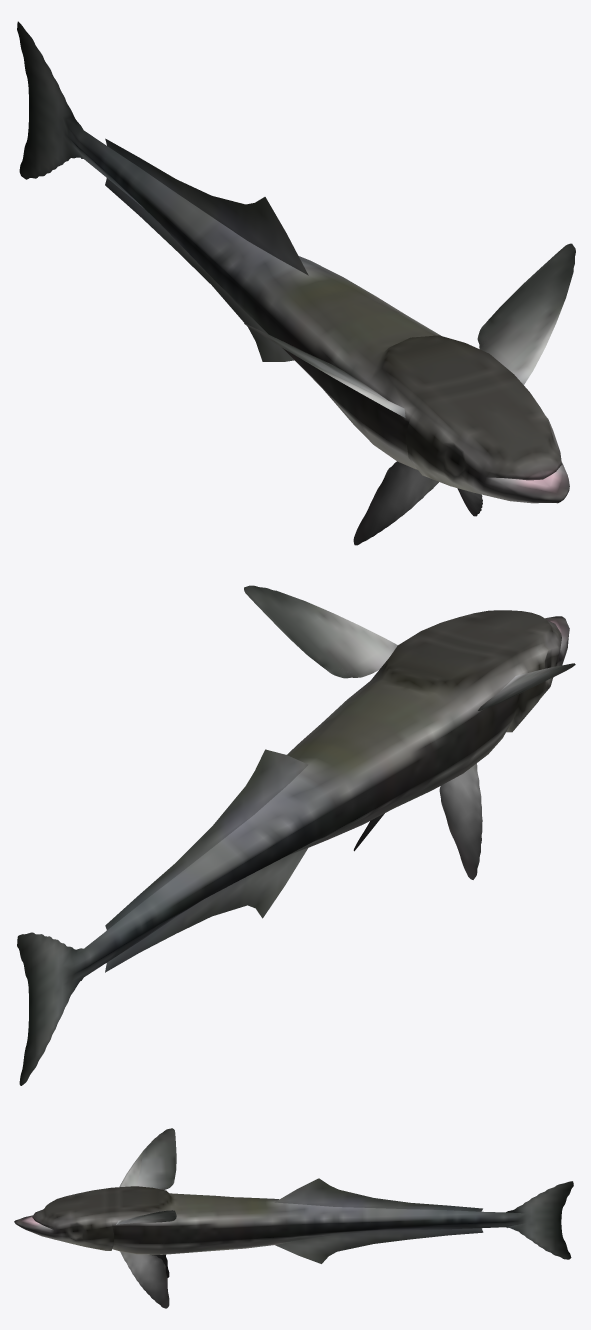
Rendered from suckerfish.glb.
3 renders of one model, top to bottom at view 1: azimuth 30°, elevation 25°; view 2: azimuth 150°, elevation 25°; view 3: azimuth 270°, elevation 25°, orthographic. The views are drawn at different scales.
Bounding box in the file's own units: 3.97 × 2.84 × 10.84.
1 material, 1 textured.
